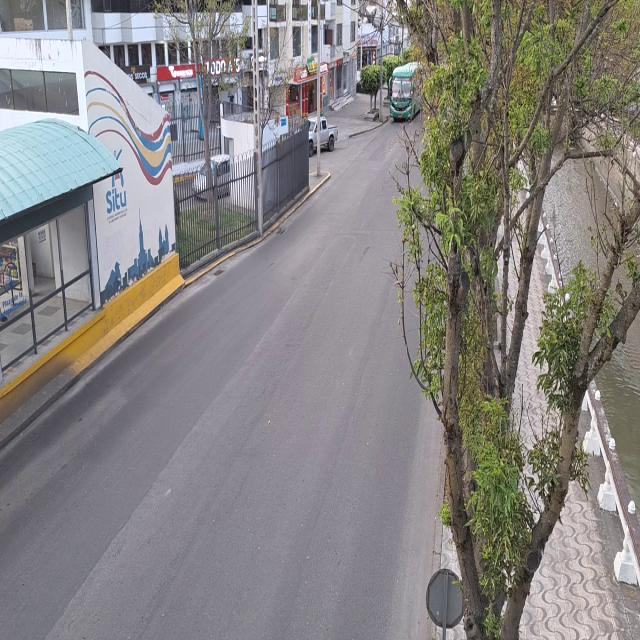BUS: (392, 64, 422, 119)
